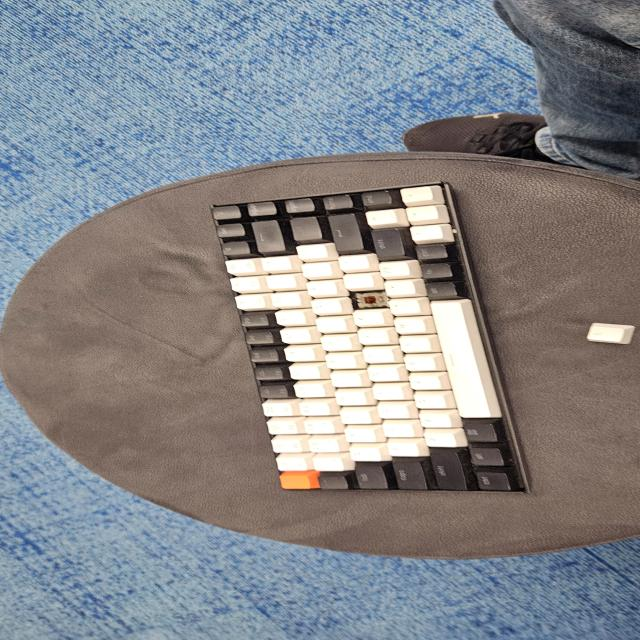C: (356, 292, 387, 308)
